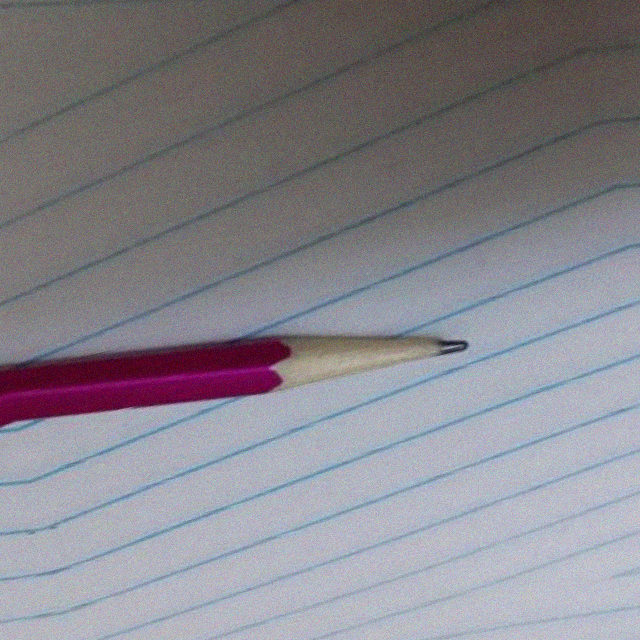pencil: (248, 303, 471, 413)
